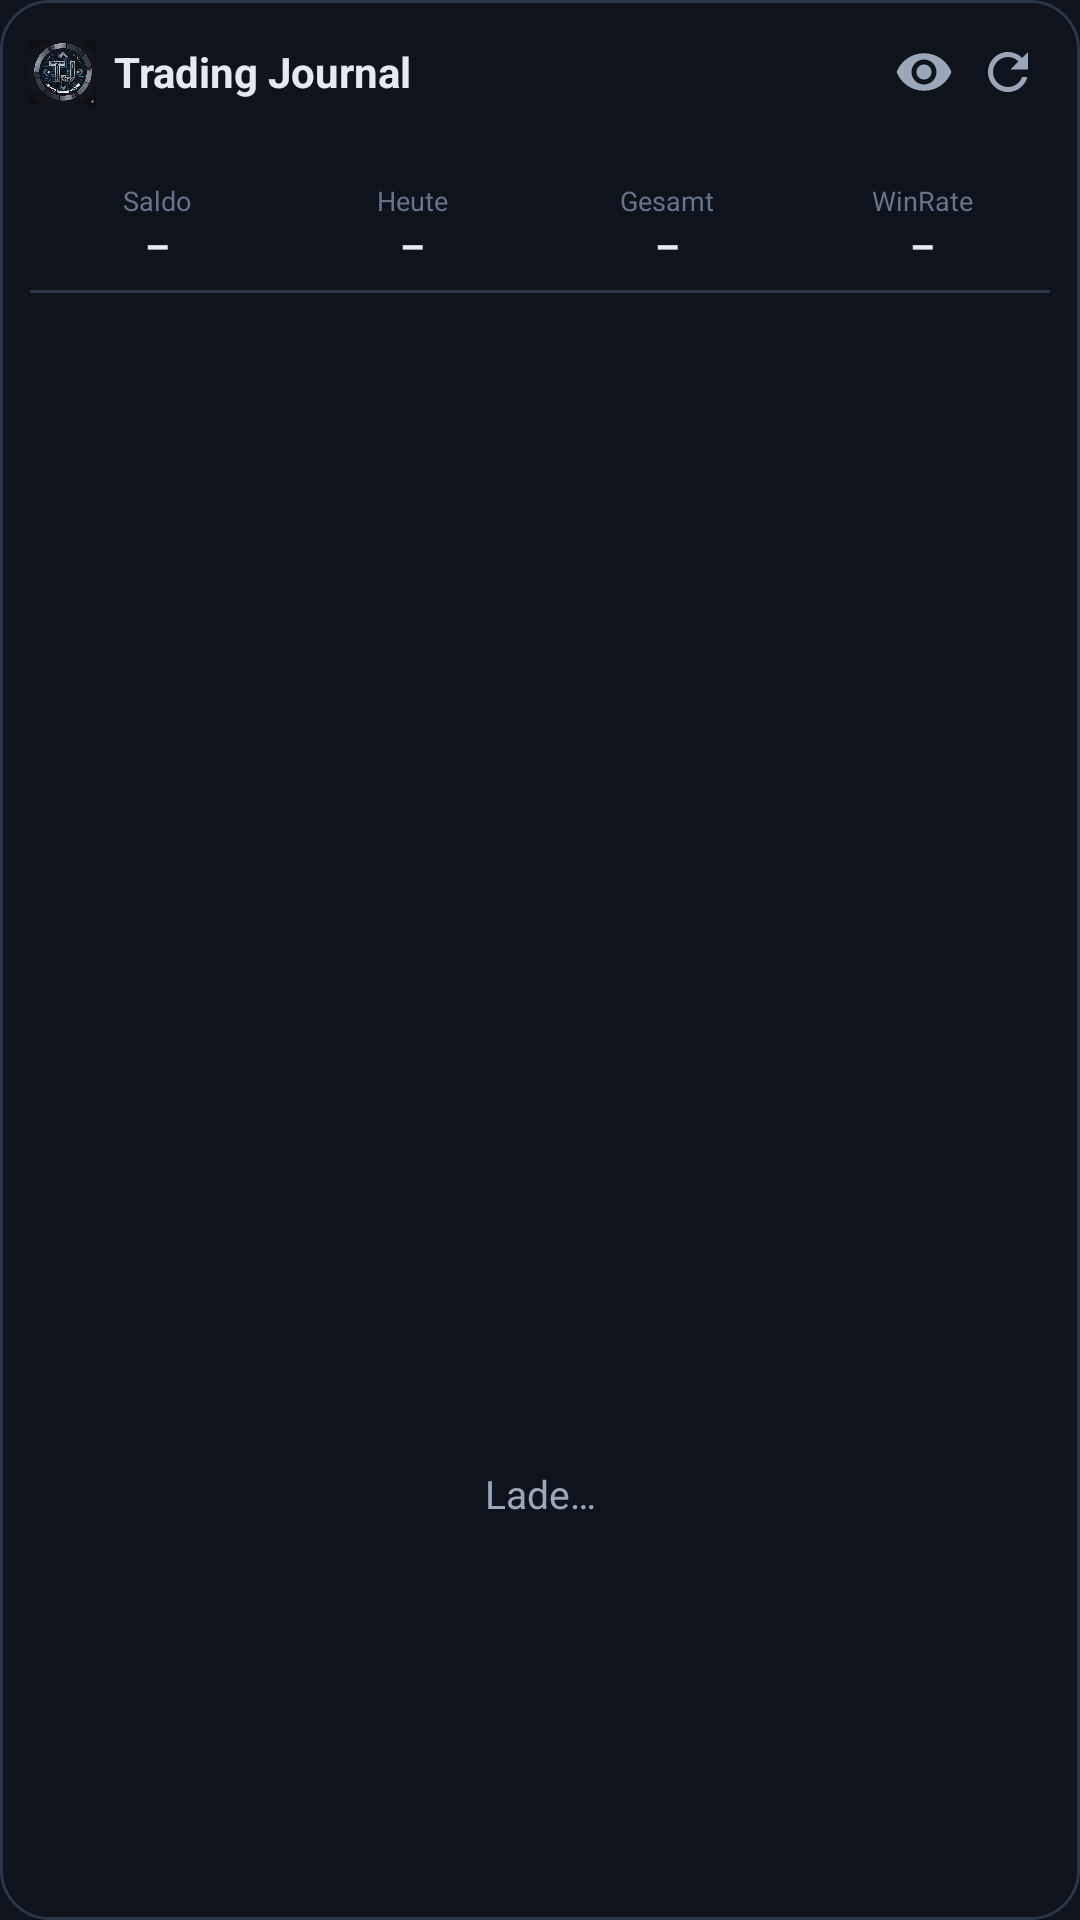

Icon bounding boxes for this 1080*1920 phone screenshot, format (x1,y1,x2,y2):
Saldo ein-/ausblenden: (896,53,952,91)
